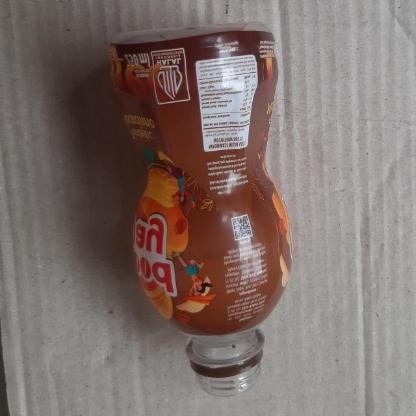Plastic Bottle: (106, 21, 294, 397)
